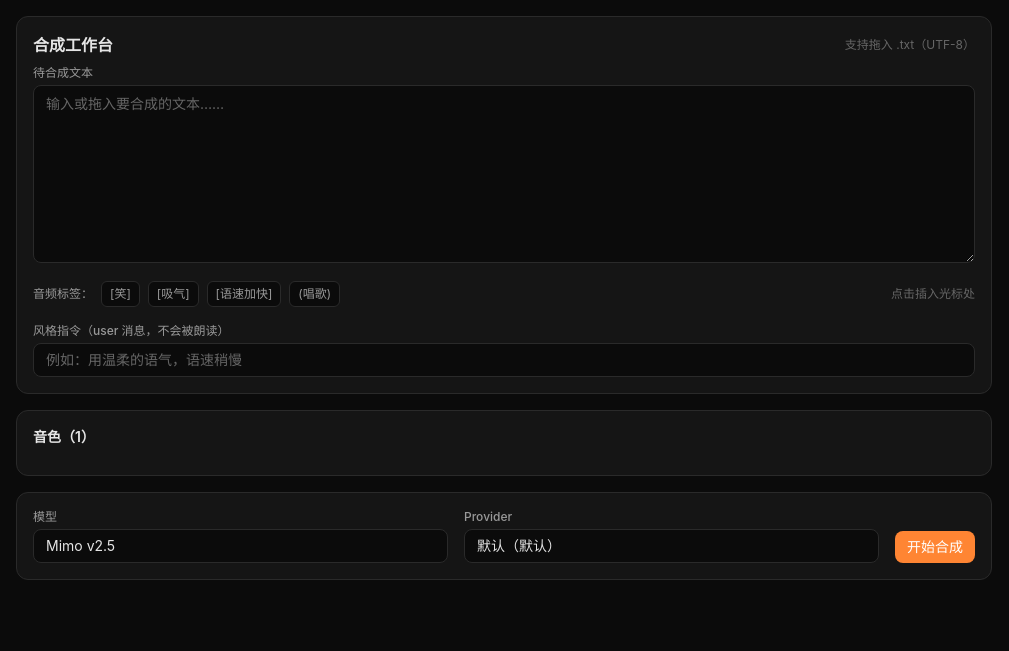
Test: Workbench › 提交失败时显示错误信息
Type "你好世界" into the text box with test id "workbench-content". click: coordinates (504, 174)
box: top-left (33, 85), bottom-right (975, 263)
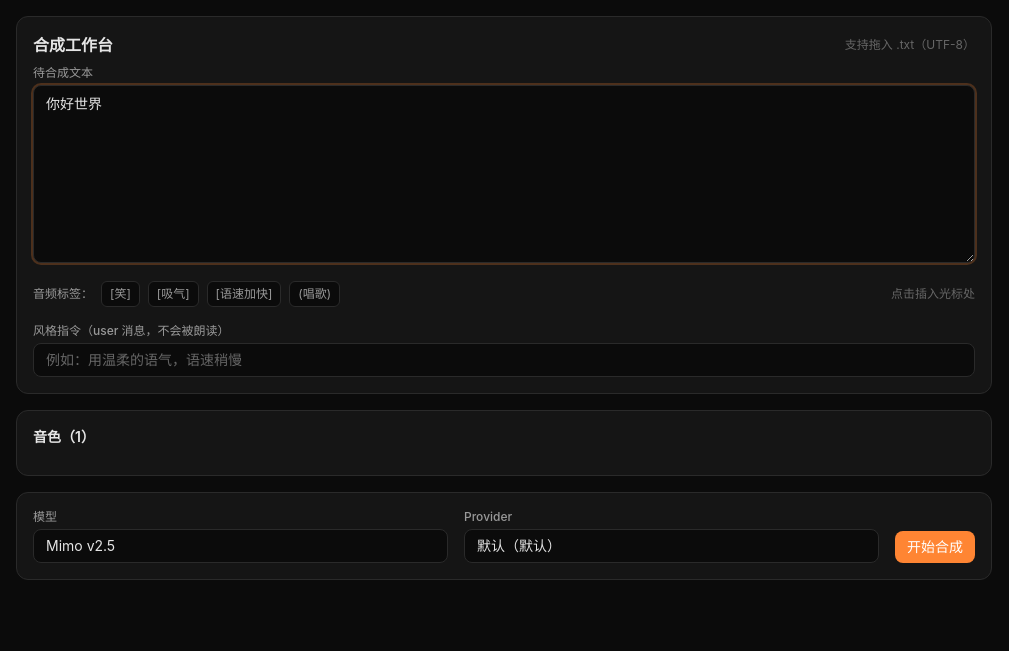
Click the button with test id "workbench-submit". click: coordinates (935, 547)
box: top-left (895, 531), bottom-right (975, 563)
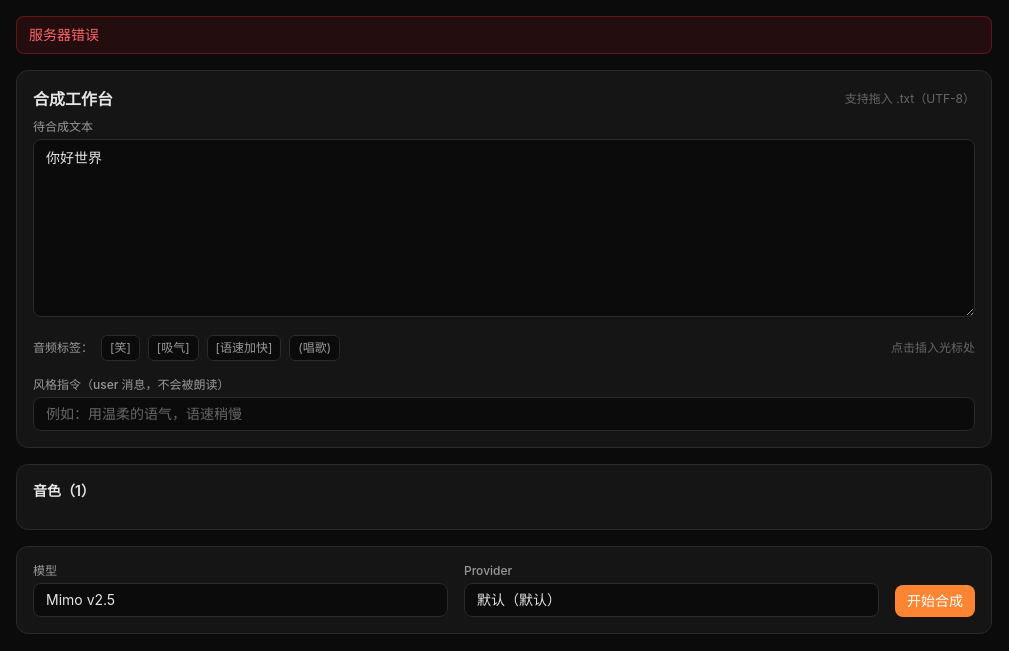
Result: the text "服务器错误" is shown at top-left (16, 16), bottom-right (992, 54)
